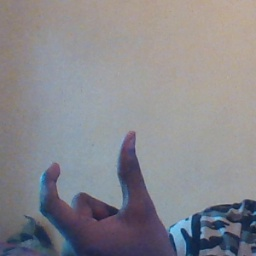U: (39, 129, 167, 256)
